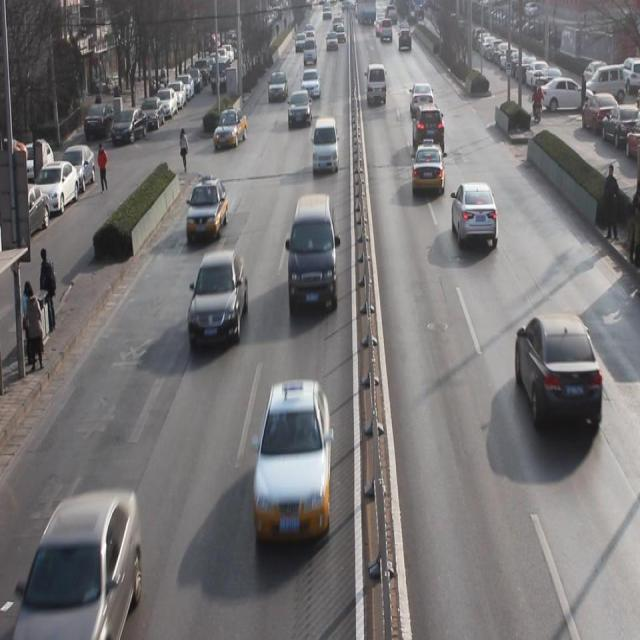car: (19, 496, 144, 640), (254, 383, 332, 540), (516, 308, 602, 432), (188, 252, 248, 345), (451, 182, 497, 248), (186, 178, 229, 244), (411, 142, 446, 197), (411, 102, 444, 155), (214, 107, 247, 151), (287, 90, 313, 128), (410, 81, 433, 115), (300, 69, 321, 99), (268, 71, 288, 101)
truck: (287, 194, 339, 316), (312, 117, 340, 177), (365, 61, 388, 110)
